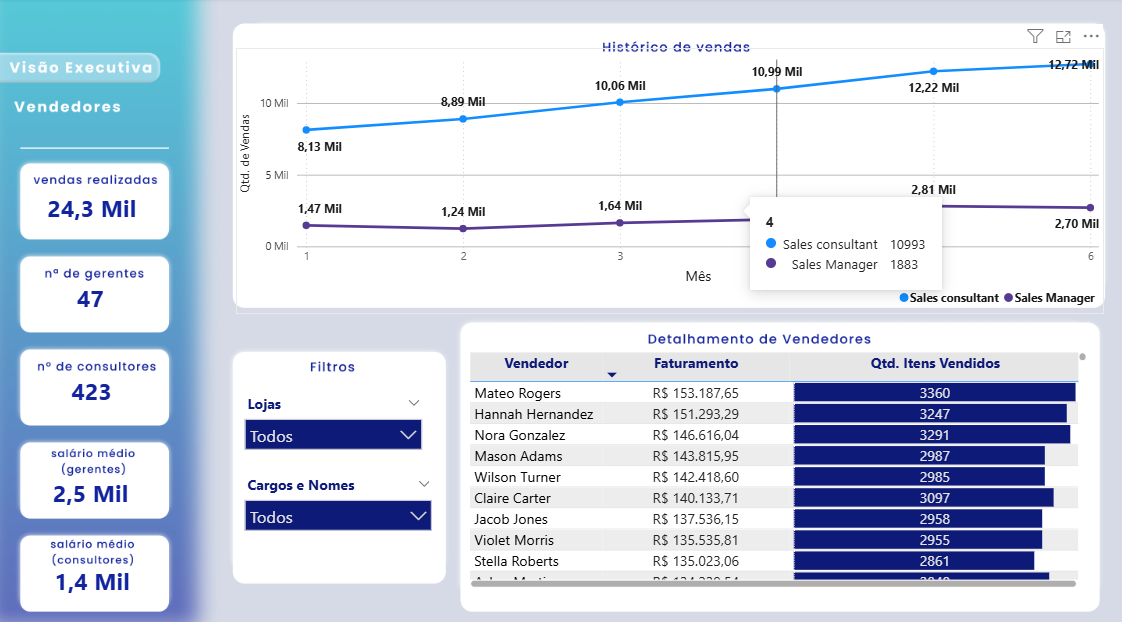

What the dashboard file says about the page in this screenshot:
{"tool":"powerbi","page":{"name":"Desempenho de Vendedores","canvas":[1280,720],"ordinal":1},"visuals":[{"type":"card","title":"Itens Vendidos","fields":{"Values":["medidas.QTD VENDAS"]},"box":[35,213.3,143.3,55],"z":0},{"type":"card","title":"  Gerentes de Vendas","fields":{"Values":["medidas.GERENTES"]},"box":[30,307.1,151.4,70],"z":1000},{"type":"card","title":"Consultores de Vendas","fields":{"Values":["medidas.CONSULTORES"]},"box":[35.7,412.9,142.9,72.9],"z":2000},{"type":"lineChart","title":"Histórico de Vendas ","fields":{"Category":["vendas_total.Month"],"Series":["consultores_ok.Role"],"Y":["medidas.QTD VENDAS"]},"box":[271.7,56.7,988.3,303.3],"z":3000},{"type":"slicer","fields":{"Values":["lojas_ok.Store"]},"box":[271.7,446.7,221.7,71.7],"z":4000},{"type":"slicer","fields":{"Values":["consultores_ok.Role","consultores_ok.Seller"]},"box":[271.7,538.3,233.3,75],"z":5000},{"type":"card","title":"Salário Médio (Gerentes)","fields":{"Values":["medidas.SALARIO_MEDIO"]},"box":[33.3,525,145,80],"z":6000},{"type":"card","title":"Salário Médio (Consultores)","fields":{"Values":["medidas.SALARIO_MEDIO"]},"box":[36.7,641.7,141.7,46.7],"z":7000},{"type":"tableEx","title":"Faturamento por Vendedor","fields":{"Values":["consultores_ok.Seller","medidas.FATURAMENTO_TOTAL","medidas.TOTAL_ITENS"]},"box":[531.7,398.3,713.3,278.3],"z":8000}]}

Visuals, with their boxes in screenshot pixels (x1, y1, x2, y2), scaled from the page's 1280x720 canvas onto the 1122x622 screenshot:
"Itens Vendidos" card: x1=31 y1=184 x2=156 y2=232
"  Gerentes de Vendas" card: x1=26 y1=265 x2=159 y2=326
"Consultores de Vendas" card: x1=31 y1=357 x2=157 y2=420
"Histórico de Vendas " lineChart: x1=238 y1=49 x2=1104 y2=311
slicer - lojas_ok.Store: x1=238 y1=386 x2=432 y2=448
slicer - consultores_ok.Role x consultores_ok.Seller: x1=238 y1=465 x2=443 y2=530
"Salário Médio (Gerentes)" card: x1=29 y1=454 x2=156 y2=523
"Salário Médio (Consultores)" card: x1=32 y1=554 x2=156 y2=595
"Faturamento por Vendedor" tableEx: x1=466 y1=344 x2=1091 y2=585
